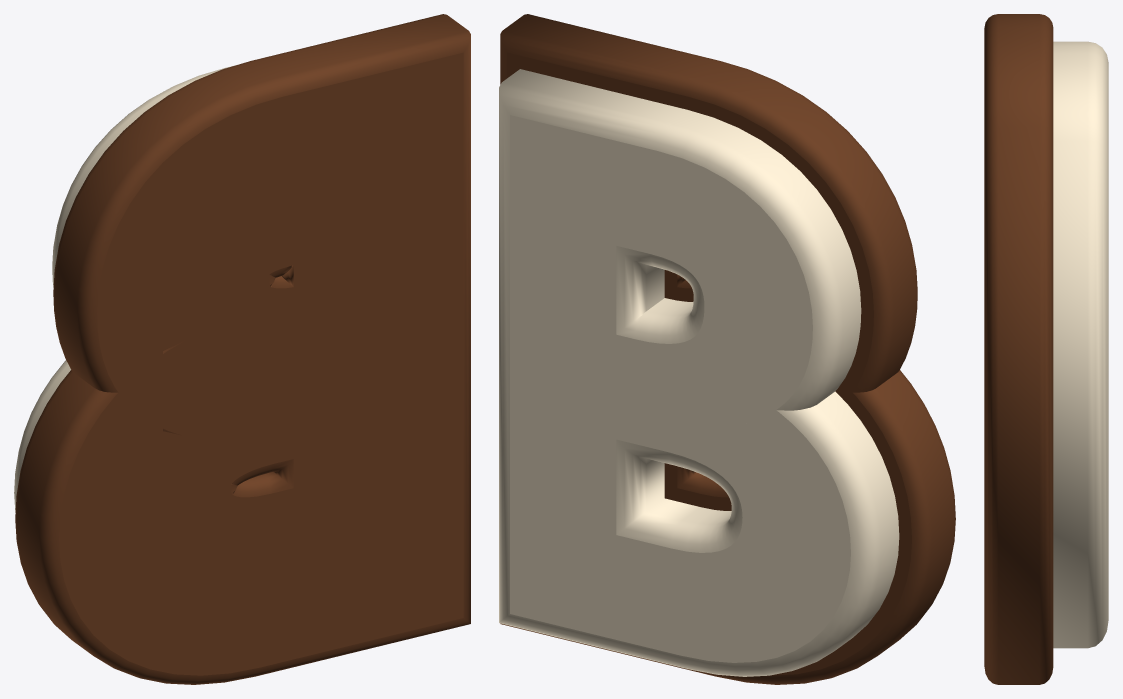
Rendered from Letter_B.fbx.
3 renders of one model, left to right at view 1: azimuth 30°, elevation 25°; view 2: azimuth 150°, elevation 25°; view 3: azimuth 270°, elevation 25°, orthographic. The views are drawn at different scales.
Visible parts, largest first — view 1: Letter_B; view 2: Letter_B; view 3: Letter_B.
Part boxes in pixels (box(x1,y1,x2,y2)): Letter_B: box(14, 14, 470, 684); Letter_B: box(499, 14, 955, 684); Letter_B: box(984, 14, 1108, 684).
Bounding box in the file's own units: 0.6782 × 0.892 × 0.18.
Materials: 1 (1 with a texture image).
